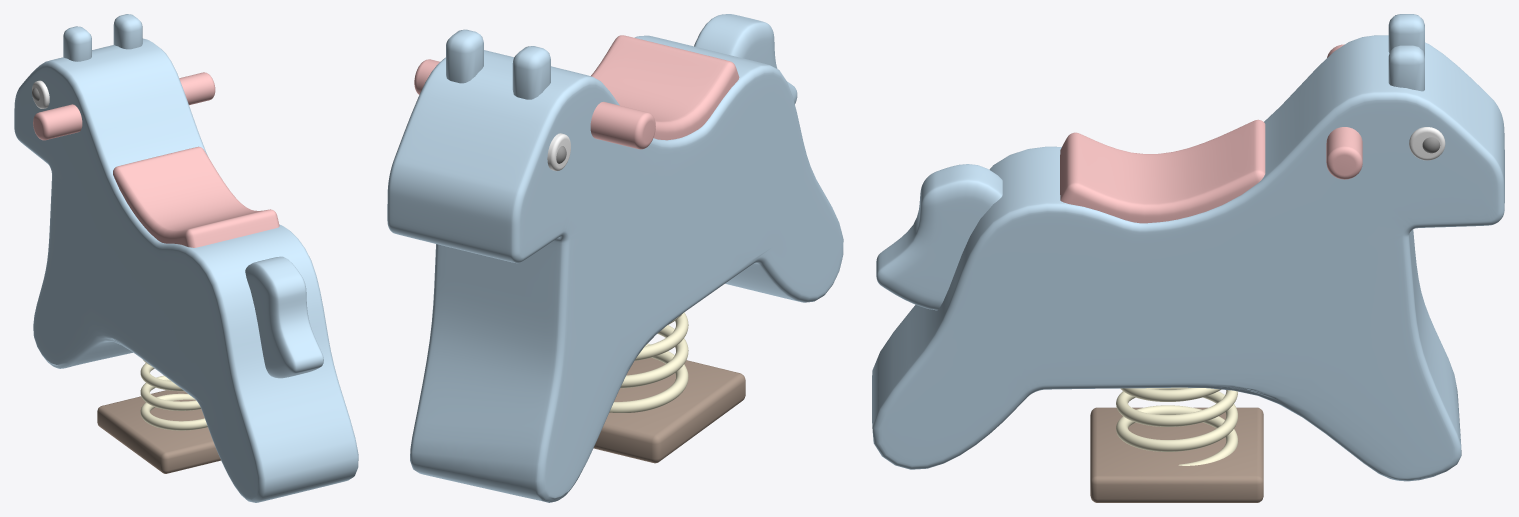
Rendered from mockma2.glb.
The picture shows the model from 3 angles, left to right: view 1: azimuth 30°, elevation 25°; view 2: azimuth 150°, elevation 25°; view 3: azimuth 270°, elevation 25°; orthographic projection. The views are drawn at different scales.
Visible parts, largest first — view 1: Polygon; view 2: Polygon; view 3: Polygon.
Boxes of the visible parts, left/top/right/bottom form: Polygon: left=14, top=14, right=358, bottom=502; Polygon: left=387, top=14, right=843, bottom=502; Polygon: left=872, top=14, right=1504, bottom=502.
Bounding box in the file's own units: 2.28 × 4.4 × 5.75.
